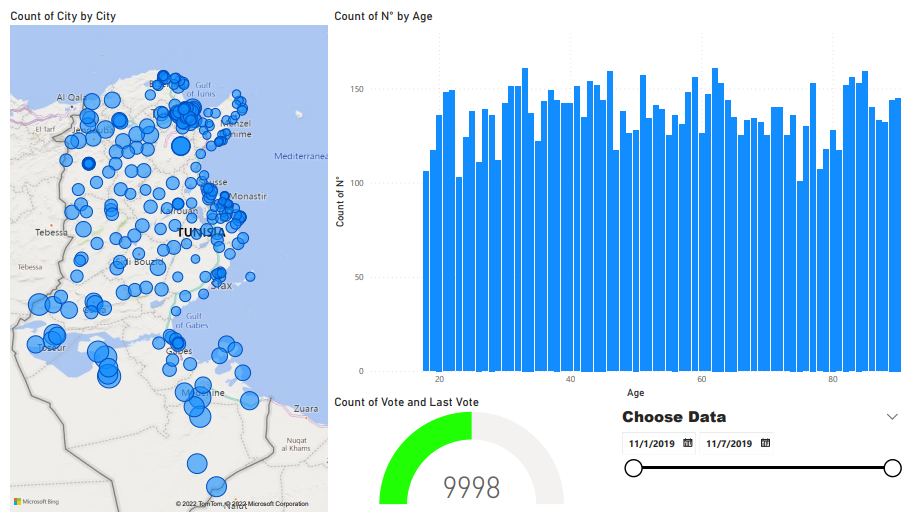

Layout of this report page (visuals, bound fields, positions):
{"tool":"powerbi","page":{"name":"Page 1","canvas":[1280,720],"ordinal":0},"visuals":[{"type":"slicer","fields":{"Values":["Simulation.DateByY_M_D"]},"box":[861.1,559,417.5,159.3],"z":0},{"type":"map","fields":{"Category":["Simulation.City"],"Size":["CountNonNull(Simulation.City)"]},"box":[0,0,460.7,718.8],"z":1000},{"type":"clusteredColumnChart","fields":{"Category":["Simulation.Age"],"Y":["CountNonNull(Simulation.N°)"]},"box":[460.7,0,817.7,558.4],"z":2000},{"type":"gauge","fields":{"Y":["CountNonNull(Simulation.Vote)"]},"box":[460.7,547.5,400.4,160.4],"z":3000}]}

Visuals, with their boxes in screenshot pixels (x1, y1, x2, y2), scaled from the page's 1280x720 canvas onto the 922x527 screenshot:
slicer - Simulation.DateByY_M_D: detection(620, 409, 921, 526)
map - Simulation.City x CountNonNull(Simulation.City): detection(0, 0, 332, 526)
clusteredColumnChart - Simulation.Age x CountNonNull(Simulation.N°): detection(332, 0, 921, 409)
gauge - CountNonNull(Simulation.Vote): detection(332, 401, 620, 518)
